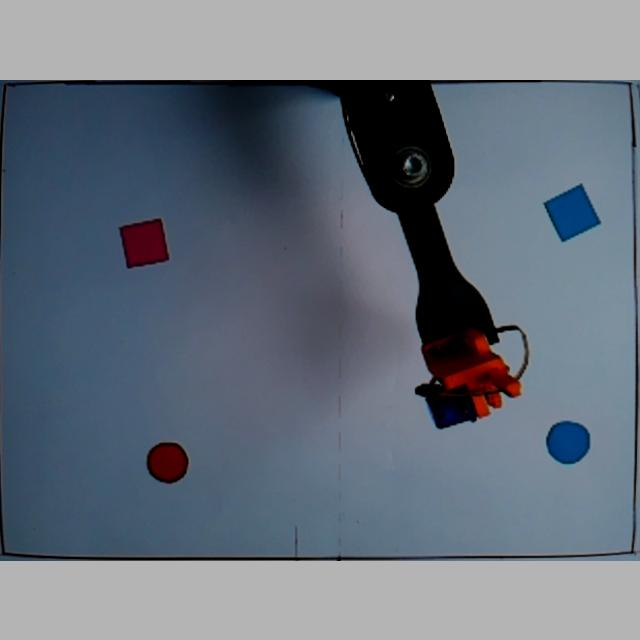blueCircle: (545, 418, 591, 466)
blueSquare: (543, 183, 603, 240)
pinkSquare: (117, 216, 169, 268)
redCircle: (146, 440, 190, 482)
